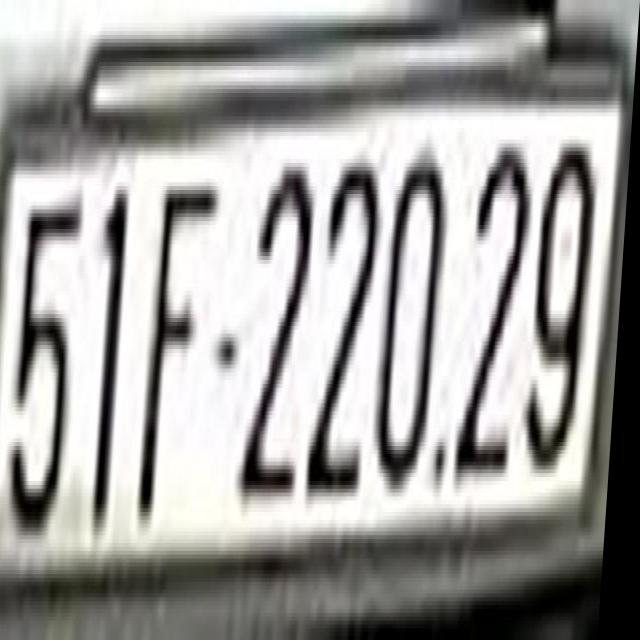0: (382, 148, 448, 500)
1: (87, 175, 137, 528)
2: (241, 151, 322, 512), (311, 159, 385, 516), (457, 140, 533, 473)
5: (12, 186, 87, 539)
9: (526, 124, 599, 489)
F: (144, 163, 223, 524)
